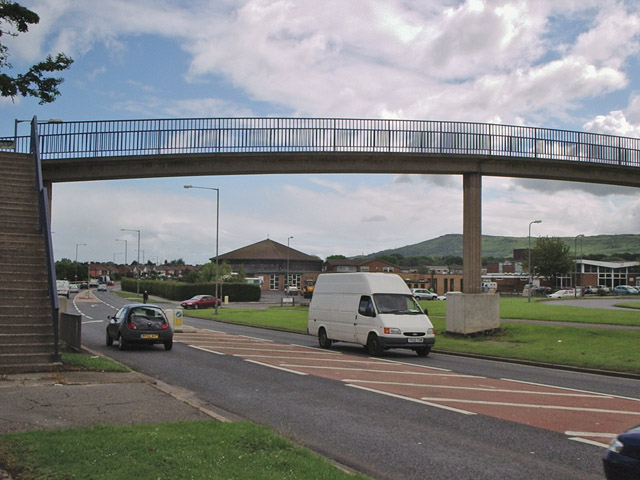bridge: (34, 114, 639, 202)
